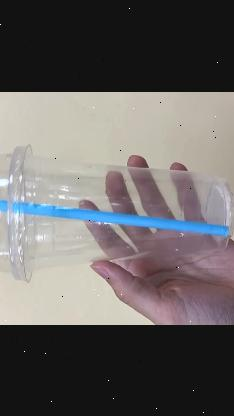Others: (0, 140, 234, 281)
